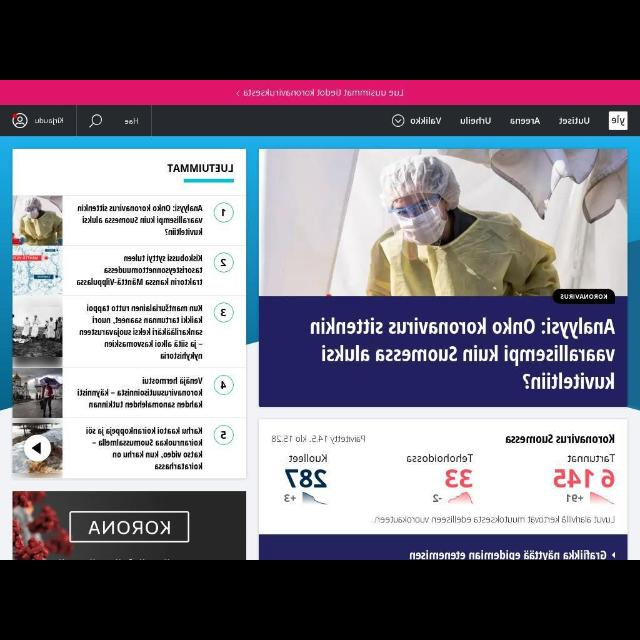icon: (12, 112, 28, 130), (89, 114, 103, 128), (392, 114, 404, 126)
image: (259, 150, 626, 296), (11, 492, 245, 558), (11, 298, 62, 357), (13, 368, 63, 418), (11, 424, 61, 474), (12, 196, 62, 244), (12, 246, 62, 294), (609, 111, 627, 131)
text: (311, 318, 617, 392), (80, 303, 204, 362), (86, 426, 202, 470), (78, 202, 202, 238), (74, 255, 204, 288), (76, 378, 202, 408), (372, 514, 616, 528), (407, 549, 608, 559), (243, 88, 405, 98), (506, 432, 616, 446), (551, 466, 613, 489), (271, 434, 365, 444), (287, 468, 327, 490), (168, 163, 234, 174), (406, 453, 476, 463), (444, 466, 472, 490), (564, 453, 614, 462), (34, 115, 66, 127), (560, 294, 608, 302), (288, 453, 328, 462), (411, 115, 441, 126), (558, 116, 590, 126), (461, 116, 492, 125), (510, 118, 540, 124), (565, 493, 583, 503), (284, 493, 296, 503), (124, 118, 138, 126), (432, 492, 442, 502)
textbutton: (0, 106, 76, 136), (77, 106, 151, 136)
toolbar: (1, 105, 639, 135)
